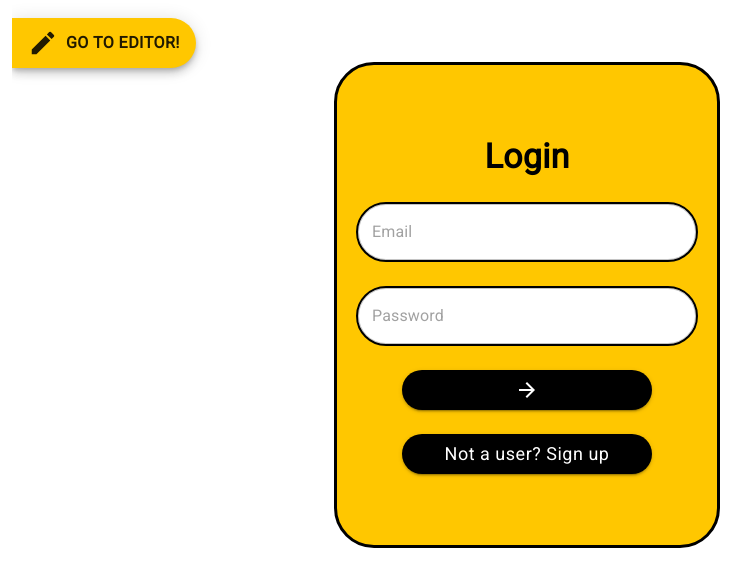
Test case: The login page.. › ..should display error message when wrong email is entered
Type "wrongemail" into the field with placeholder "Email" at (527, 232), box [358, 204, 696, 260]
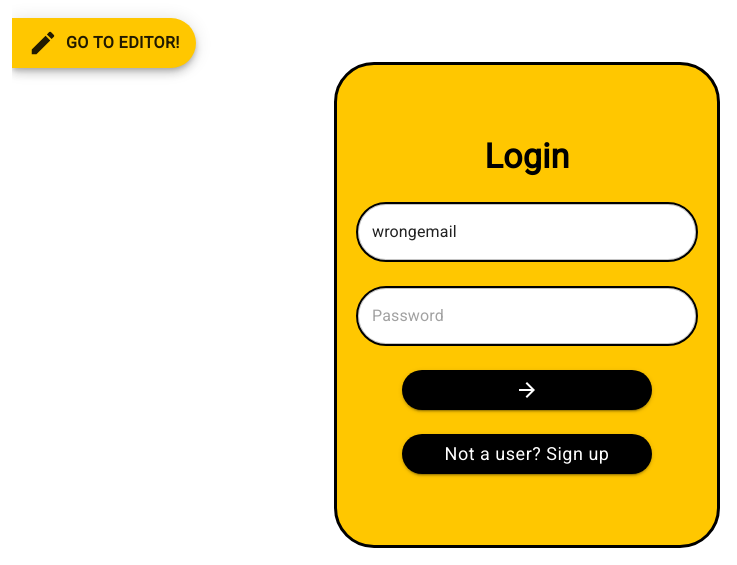
Type "password" into the password field with placeholder "Password" at (527, 316), box [358, 288, 696, 344]
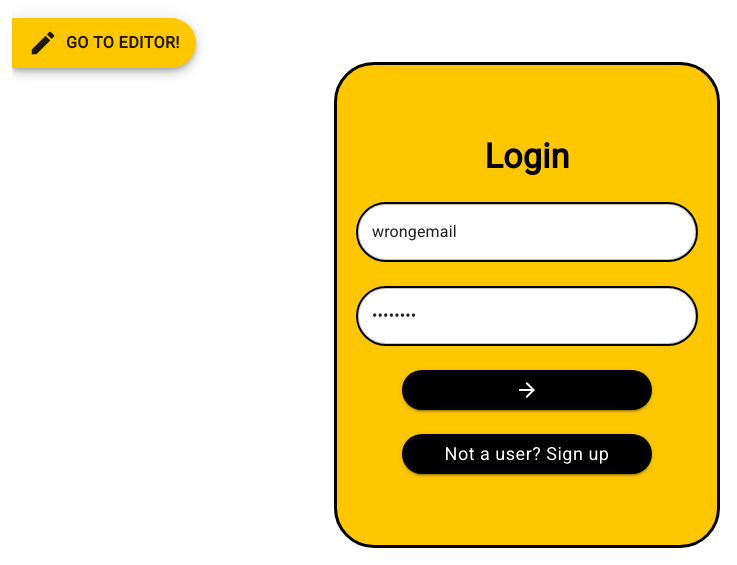
Check: the icon with test id "ArrowForwardIcon" is shown, box [515, 378, 539, 402]
Click the button with test id "ArrowForwardIcon" at (527, 390), box [402, 370, 652, 410]
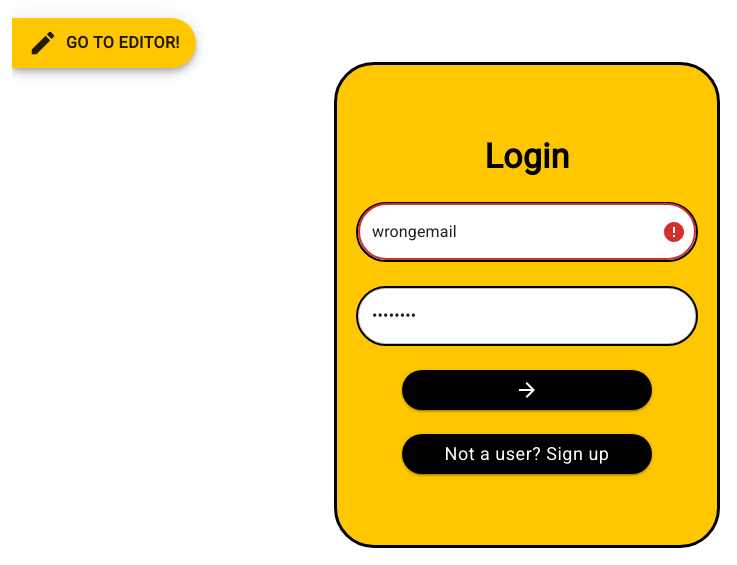
Check: the icon with test id "ErrorIcon" is shown, box [662, 220, 686, 244]
